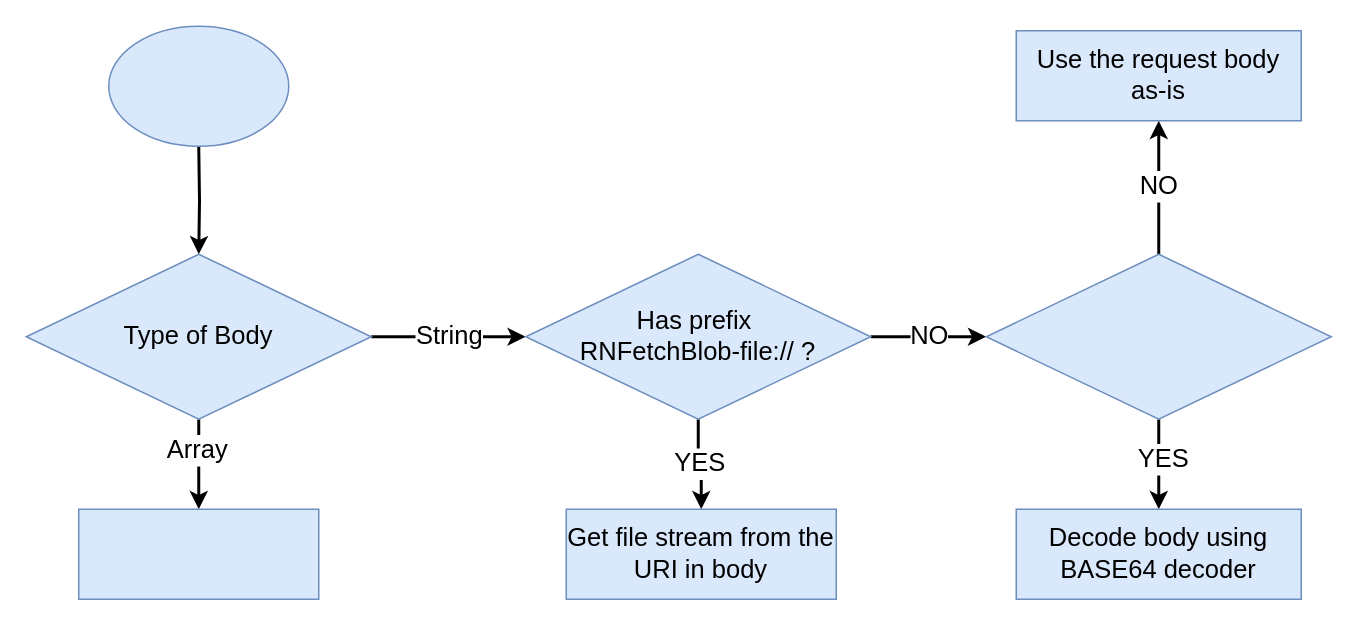
This 1358x626 diagram has some shape labels left out. Here are the shapes that lost their labels. From the top down, the box of each, then its label:
(107, 25, 289, 146): Body
(985, 253, 1331, 419): Content-Type contains ;BASE64 or application/octet ?
(77, 508, 319, 599): Create multipart request body
